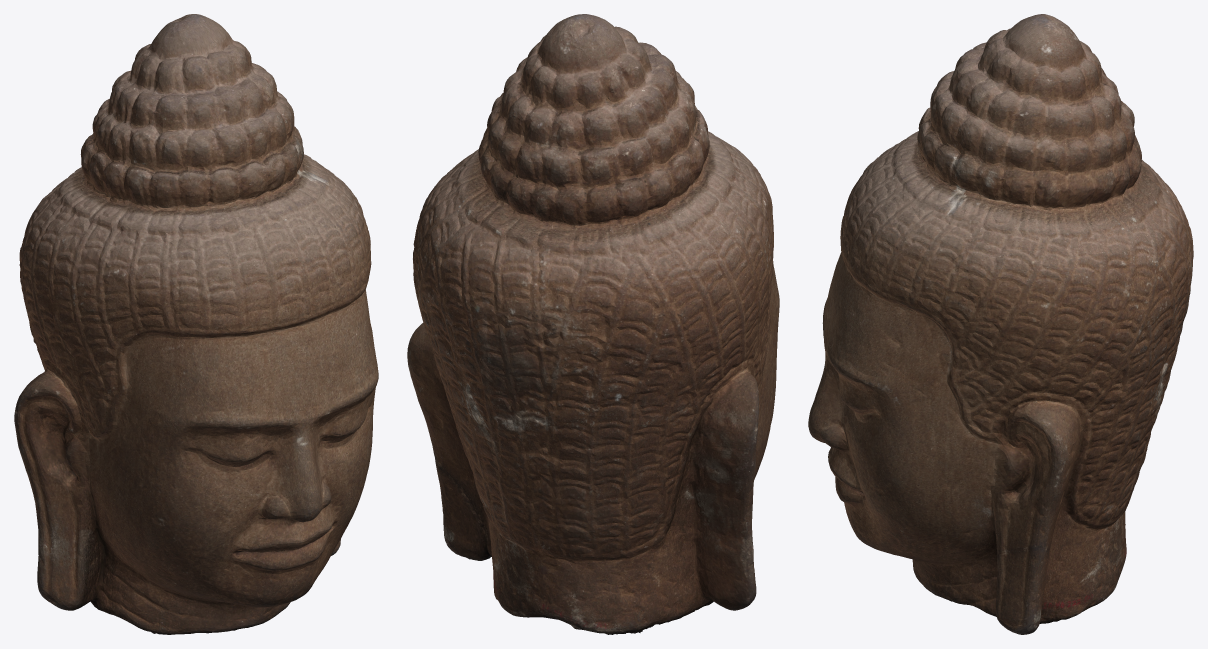
File: 191024_mia337_000889_KhmerBuddha.obj
The picture shows the model from 3 angles, left to right: view 1: azimuth 30°, elevation 25°; view 2: azimuth 150°, elevation 25°; view 3: azimuth 270°, elevation 25°; orthographic projection. The views are drawn at different scales.
Size of the model in its own units: 0.1875 by 0.3083 by 0.188.
Materials: 1 (1 with a texture image).
